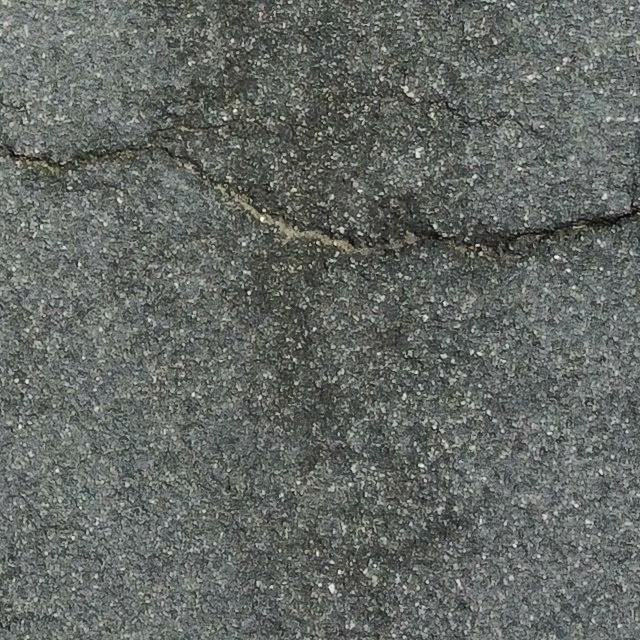TransverseCrack: (2, 141, 640, 256)
